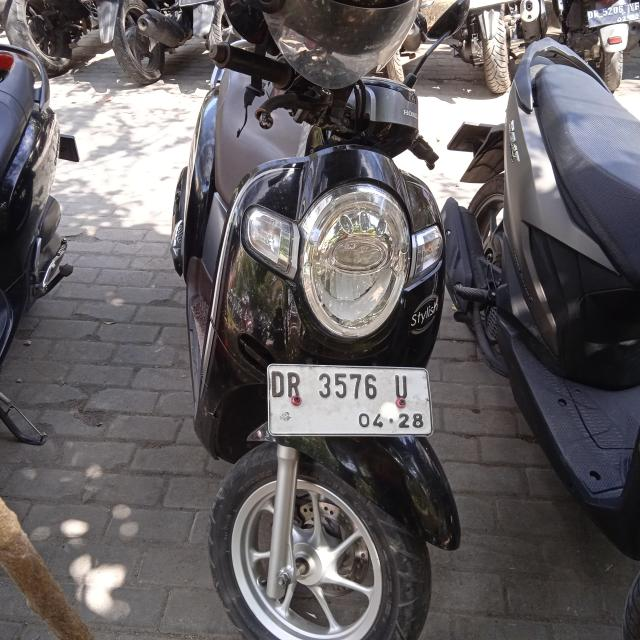plate: (264, 361, 434, 436), (586, 1, 640, 29)
